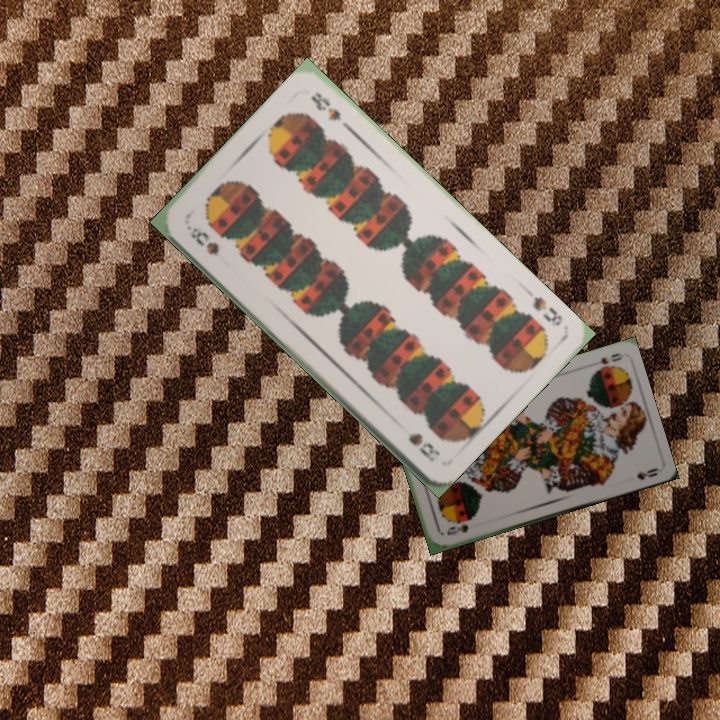S8: (182, 221, 222, 258), (528, 292, 566, 329)
SO: (443, 519, 471, 538), (596, 349, 624, 367)
